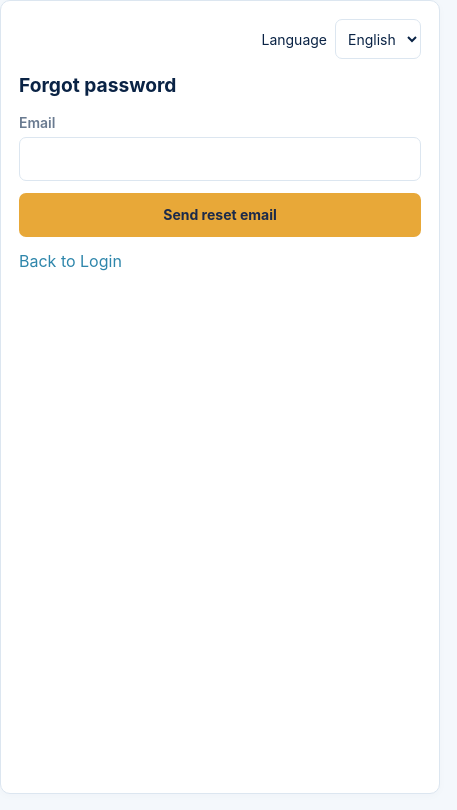
Test case: public authentication flows › keeps forgot-password responses generic
In the field labelled "Email": (220,159) [19,137,421,181], type "unknown@example.com"
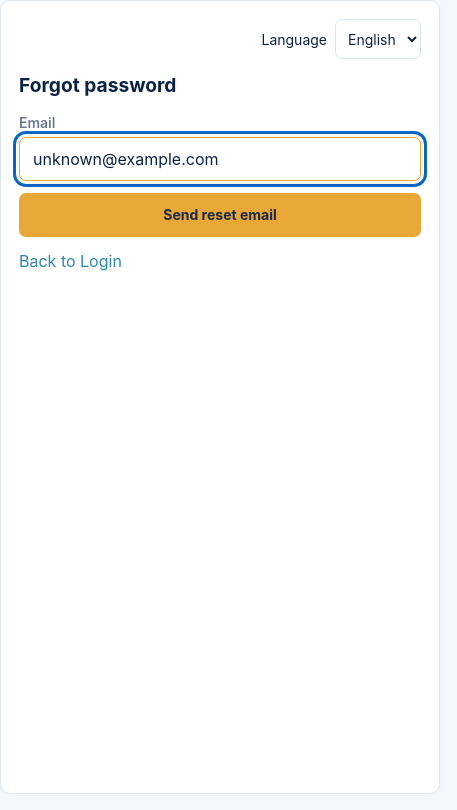
Click the button "Send reset email": (220,215) [19,193,421,237]
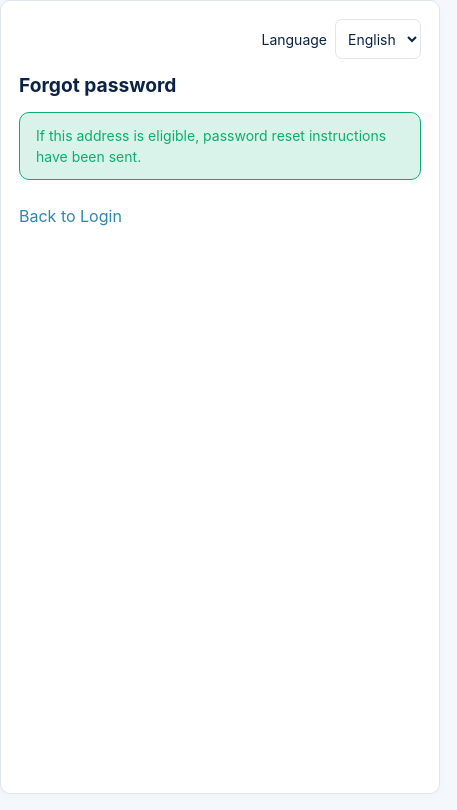
Check: the text "password reset instructions have been sent" is shown, box [36,127,386,165]
